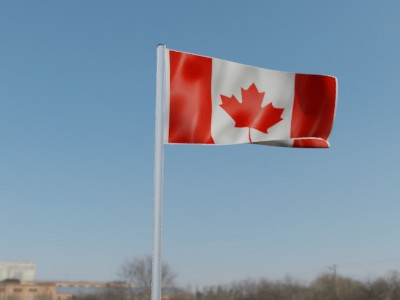Canada flag: (163, 47, 336, 154)
